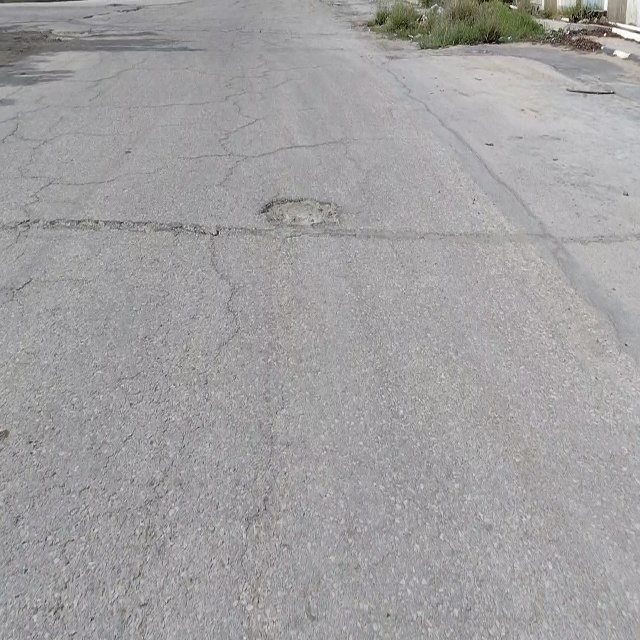pothole: (259, 197, 339, 226)
